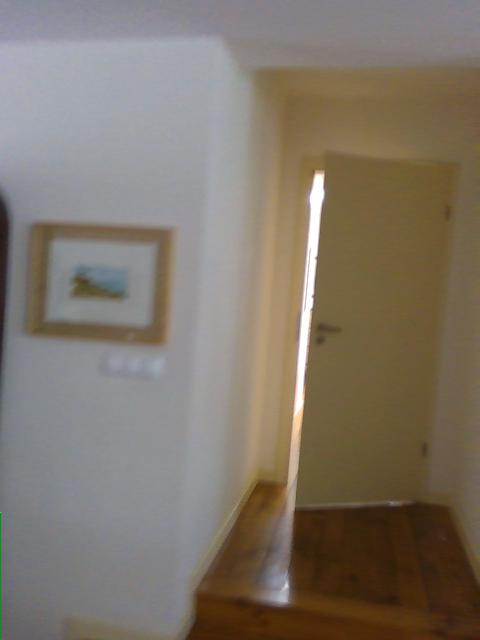semi_door: (284, 144, 459, 508)
